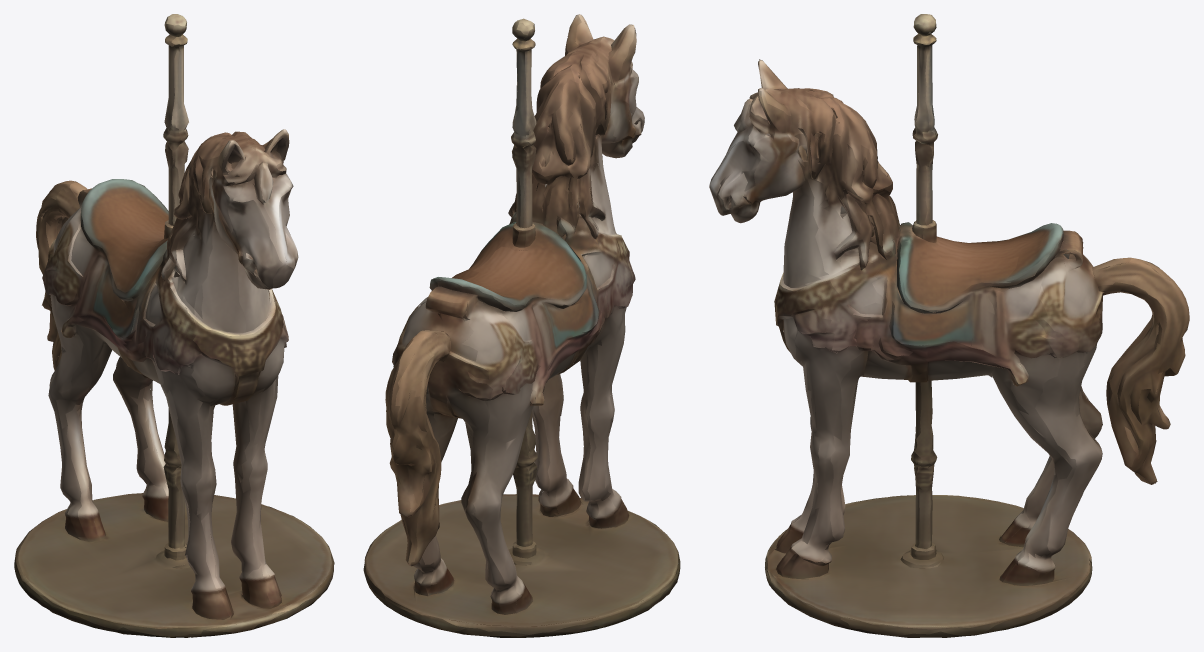
The model's file is unified--carousel-horse.glb.
The picture shows the model from 3 angles, left to right: view 1: azimuth 30°, elevation 25°; view 2: azimuth 150°, elevation 25°; view 3: azimuth 270°, elevation 25°; orthographic projection.
Visible parts, largest first — view 1: carousel-horse-1; view 2: carousel-horse-1; view 3: carousel-horse-1.
Boxes of the visible parts, x1,y1,x2,y2 form: carousel-horse-1: [14, 14, 334, 637]; carousel-horse-1: [363, 14, 680, 637]; carousel-horse-1: [709, 14, 1189, 637].
Bounding box in the file's own units: 0.2485 × 0.4799 × 0.375.
1 material, 1 textured.
